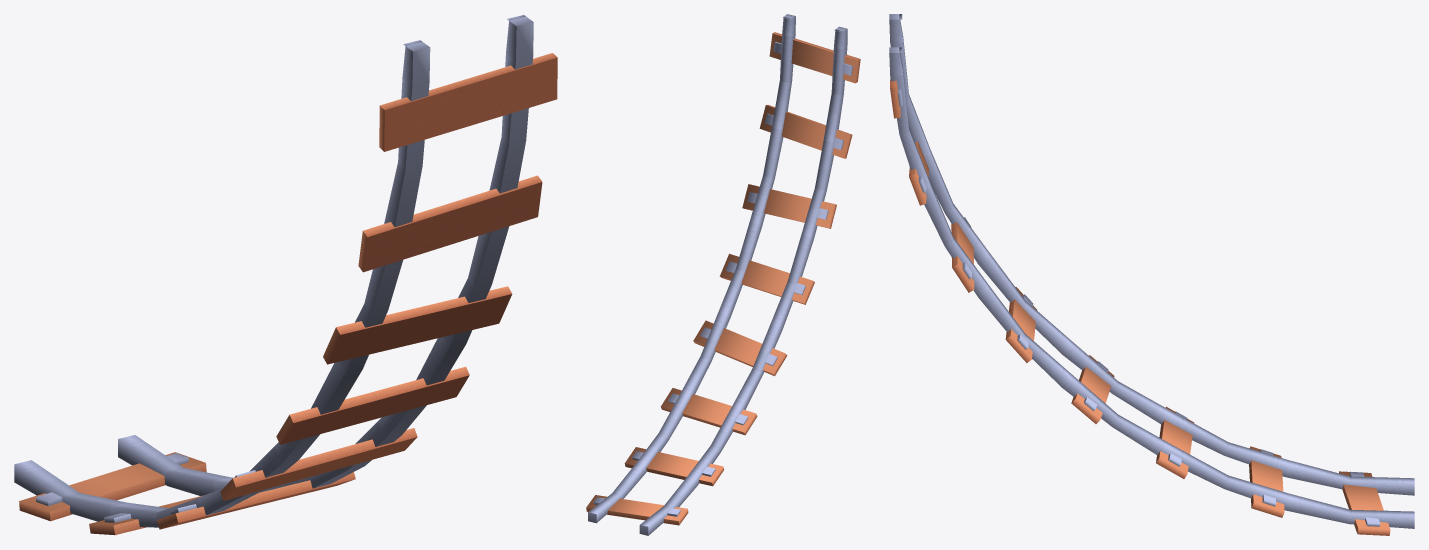
The model's file is railroad-damaged-straight-bend-large.glb.
3 views of the same model, side by side, from view 1: azimuth 30°, elevation 25°; view 2: azimuth 150°, elevation 25°; view 3: azimuth 270°, elevation 25° (orthographic). The views are drawn at different scales.
Parts seen in each view (by area): view 1: railroad-damaged-straight-bend-large; view 2: railroad-damaged-straight-bend-large; view 3: railroad-damaged-straight-bend-large.
Part boxes in pixels (x1,y1,x2,y2): railroad-damaged-straight-bend-large: (14,15,557,535); railroad-damaged-straight-bend-large: (586,14,860,535); railroad-damaged-straight-bend-large: (889,14,1414,535).
Size of the model in its own units: 1.03 by 4 by 4.
1 material, 1 textured.
